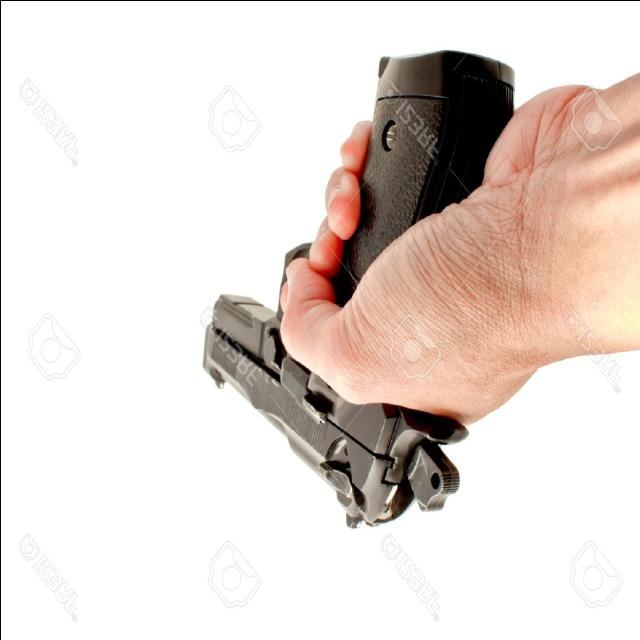weapons: (188, 30, 526, 536)
